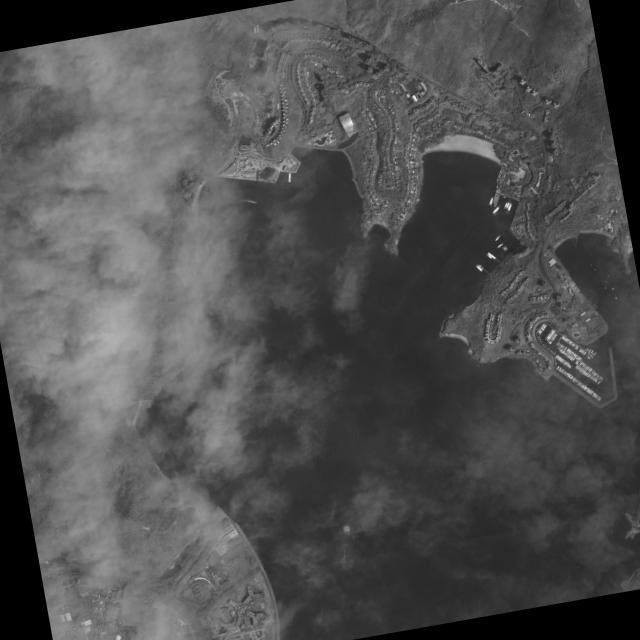ship: (474, 264, 482, 272), (491, 206, 499, 214), (506, 202, 511, 211), (493, 235, 500, 241), (485, 253, 492, 259), (488, 196, 492, 205), (495, 243, 502, 248), (502, 202, 506, 209), (588, 352, 593, 357), (505, 202, 508, 208), (586, 389, 590, 393), (571, 377, 575, 381), (580, 370, 584, 374), (583, 371, 587, 375), (587, 374, 591, 378), (586, 349, 590, 353), (550, 329, 554, 333), (587, 368, 591, 372), (578, 361, 582, 365), (582, 364, 586, 368), (586, 367, 590, 371), (590, 370, 594, 374), (592, 393, 595, 397), (591, 392, 594, 396), (590, 391, 593, 395), (587, 390, 591, 393), (585, 388, 588, 392), (584, 387, 587, 391), (583, 386, 586, 390), (582, 385, 585, 389), (581, 384, 584, 388), (577, 382, 580, 386), (576, 381, 579, 385), (575, 380, 578, 384), (568, 375, 571, 379), (567, 374, 570, 378), (566, 373, 569, 377), (579, 368, 582, 372), (574, 364, 577, 368), (575, 365, 578, 369), (577, 366, 580, 370), (578, 367, 581, 371), (597, 397, 600, 401), (582, 371, 585, 375), (585, 372, 588, 376), (589, 375, 592, 379), (590, 376, 593, 380), (565, 372, 568, 376), (503, 248, 507, 251), (502, 247, 506, 250), (542, 323, 545, 327), (540, 326, 544, 329), (557, 367, 560, 371), (537, 329, 541, 332), (538, 328, 542, 331), (539, 327, 543, 330), (559, 358, 562, 362), (579, 349, 582, 353), (567, 341, 571, 344), (545, 336, 549, 339), (544, 338, 548, 341), (564, 338, 567, 342), (559, 349, 562, 353), (577, 357, 580, 361), (578, 359, 581, 363), (580, 362, 583, 366), (581, 363, 584, 367), (583, 366, 587, 369), (585, 366, 588, 370), (589, 369, 592, 373), (594, 373, 597, 377), (575, 356, 578, 360), (563, 346, 566, 350), (579, 384, 582, 387), (589, 391, 592, 394), (595, 395, 598, 398), (574, 379, 577, 382), (570, 377, 573, 380), (569, 376, 572, 379), (596, 396, 599, 399), (561, 360, 564, 363), (563, 362, 566, 365), (567, 365, 570, 368), (586, 374, 589, 377), (591, 377, 594, 380), (593, 378, 596, 381), (594, 379, 597, 382), (596, 381, 599, 384), (563, 372, 566, 375), (562, 371, 565, 374), (610, 287, 613, 290), (561, 370, 564, 373), (502, 246, 505, 249), (501, 245, 504, 248), (502, 195, 505, 198), (556, 367, 559, 370), (555, 366, 558, 369), (536, 331, 539, 334), (537, 330, 540, 333), (560, 359, 563, 362), (558, 358, 561, 361), (583, 348, 586, 351), (571, 343, 574, 346), (573, 345, 576, 348), (574, 346, 577, 349), (575, 346, 578, 349), (577, 348, 580, 351), (578, 349, 581, 352), (580, 350, 583, 353), (581, 351, 584, 354), (582, 352, 585, 355), (585, 348, 588, 351), (586, 356, 589, 359), (592, 352, 595, 355), (590, 355, 593, 358), (558, 349, 561, 352), (550, 331, 553, 334), (549, 332, 552, 335), (548, 333, 551, 336), (547, 334, 550, 337), (551, 336, 554, 339), (550, 337, 553, 340), (548, 340, 551, 343), (547, 341, 550, 344), (561, 336, 564, 339), (562, 337, 565, 340), (563, 338, 566, 341), (561, 351, 564, 354), (557, 357, 560, 360), (574, 360, 577, 363), (575, 361, 578, 364), (562, 352, 565, 355), (592, 372, 595, 375), (593, 373, 596, 376), (595, 375, 598, 378), (596, 376, 599, 379), (554, 355, 557, 358), (555, 355, 558, 358), (556, 356, 559, 359), (576, 357, 579, 360), (574, 355, 577, 358), (573, 354, 576, 357), (567, 356, 570, 359), (570, 357, 573, 360), (571, 358, 574, 361), (556, 342, 559, 345), (559, 344, 562, 347), (565, 348, 568, 351), (566, 349, 569, 352), (567, 350, 570, 353), (568, 351, 571, 354), (569, 351, 572, 354), (570, 352, 573, 355), (571, 353, 574, 356), (572, 354, 575, 357), (594, 394, 596, 398), (563, 360, 565, 364), (587, 352, 589, 356), (569, 341, 571, 345), (546, 336, 550, 338), (564, 352, 566, 356), (579, 383, 581, 386), (573, 379, 575, 382), (565, 362, 567, 365), (566, 363, 568, 366), (567, 364, 569, 367), (613, 297, 616, 299), (541, 325, 544, 327), (560, 369, 562, 372), (559, 368, 561, 371), (572, 344, 574, 347), (561, 350, 563, 353), (590, 350, 592, 353), (556, 346, 558, 349), (570, 343, 572, 346), (567, 340, 569, 343), (551, 329, 554, 331), (553, 333, 556, 335), (553, 334, 555, 337), (552, 335, 554, 338), (550, 338, 552, 341), (561, 335, 563, 338), (566, 339, 568, 342), (598, 376, 600, 379), (599, 377, 601, 380), (565, 353, 567, 356), (566, 354, 568, 357), (567, 355, 569, 358), (569, 356, 571, 359), (558, 343, 560, 346), (561, 345, 563, 348), (562, 346, 564, 349), (589, 264, 591, 266), (606, 275, 608, 277), (604, 280, 606, 282), (588, 254, 590, 256), (553, 352, 555, 354), (547, 348, 549, 350), (543, 345, 545, 347), (538, 338, 540, 340), (557, 347, 559, 349), (558, 348, 560, 350), (560, 345, 562, 347), (630, 339, 633, 340), (536, 336, 539, 337), (618, 390, 620, 391), (593, 269, 595, 270), (603, 287, 605, 288), (554, 362, 555, 364), (550, 351, 552, 352), (550, 350, 551, 352), (549, 349, 550, 351), (547, 347, 548, 349), (542, 344, 543, 346), (539, 340, 541, 341), (537, 337, 539, 338)
